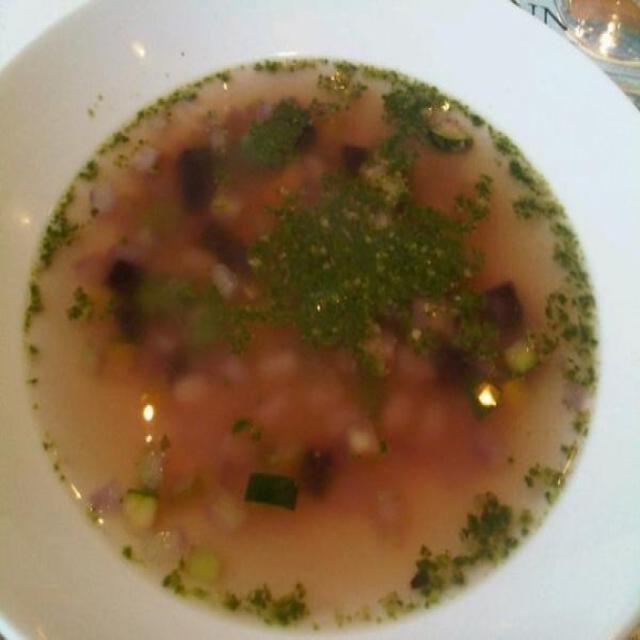汤锅炖物: (14, 26, 624, 624)
